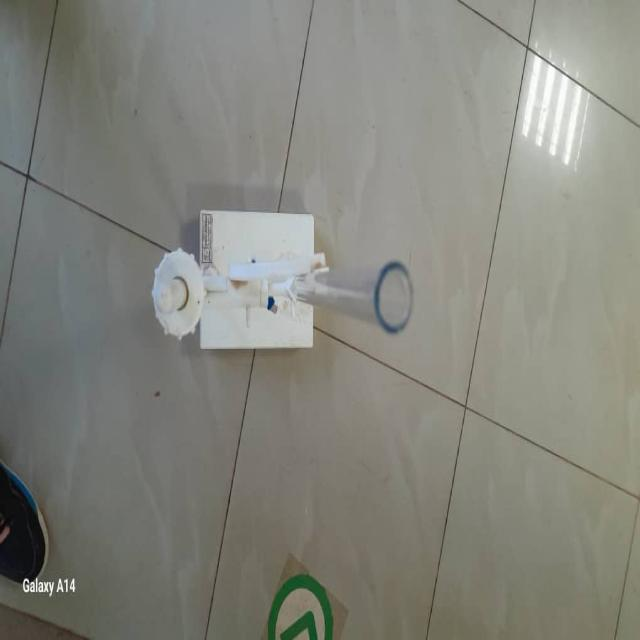Biurette: (255, 227, 416, 381)
